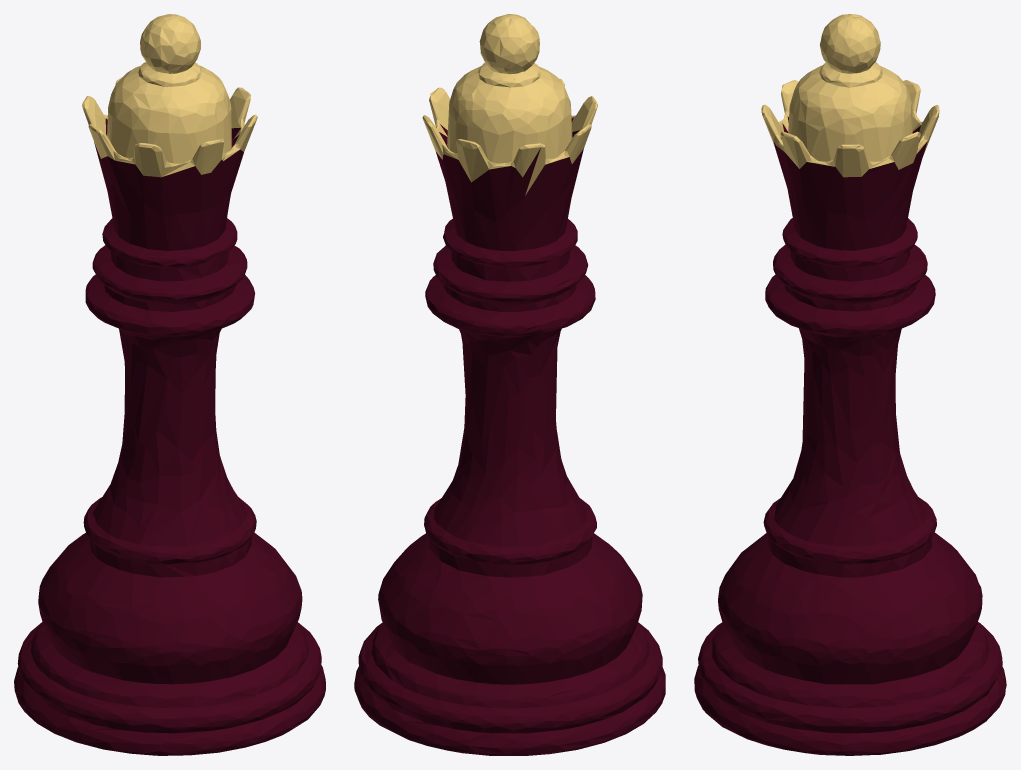
The model's file is gercek3_q_b.glb.
3 views of the same model, side by side, from view 1: azimuth 30°, elevation 25°; view 2: azimuth 150°, elevation 25°; view 3: azimuth 270°, elevation 25° (orthographic).
Visible parts, largest first — view 1: q_b; view 2: q_b; view 3: q_b.
Boxes of the visible parts, x1,y1,x2,y2 form: q_b: (14, 14, 325, 755); q_b: (354, 14, 665, 755); q_b: (694, 14, 1006, 755).
Bounding box in the file's own units: 0.376 × 0.8996 × 0.3762.
